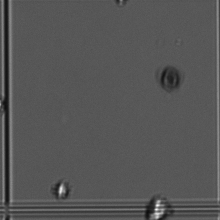Dead Cell: (153, 62, 189, 98)
Living Cell: (50, 177, 74, 201)
